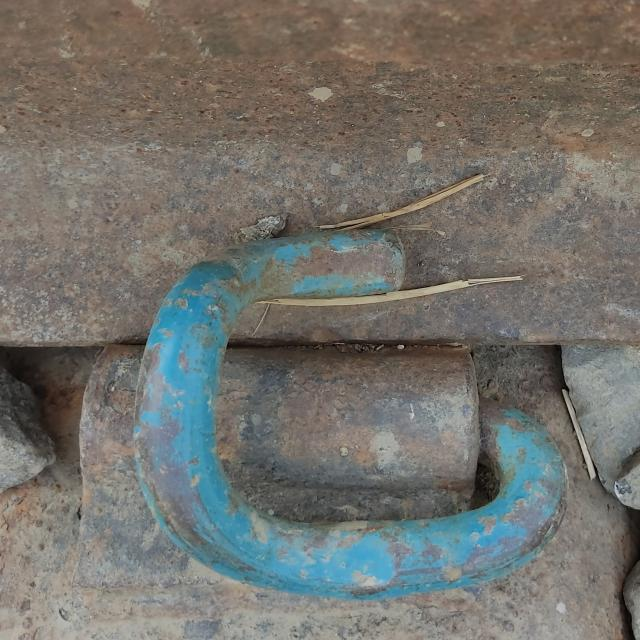track_bolt: (128, 223, 574, 606)
